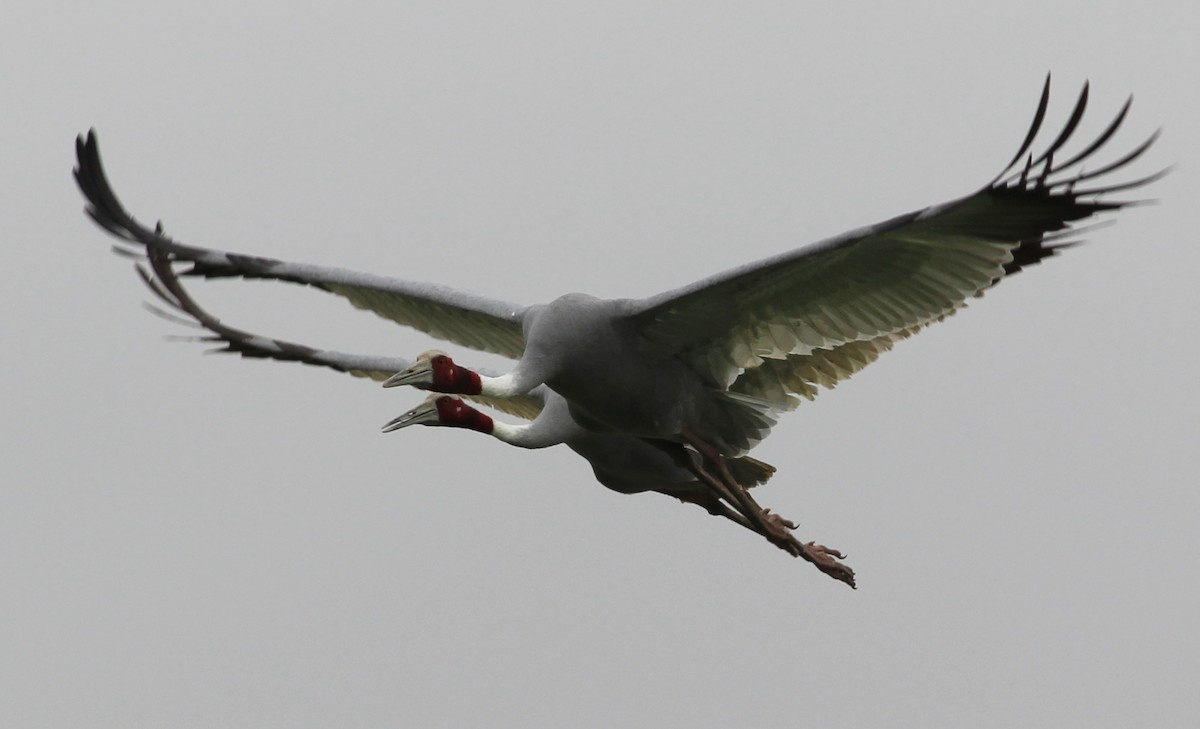crane: (67, 101, 1148, 396), (383, 388, 786, 532)
